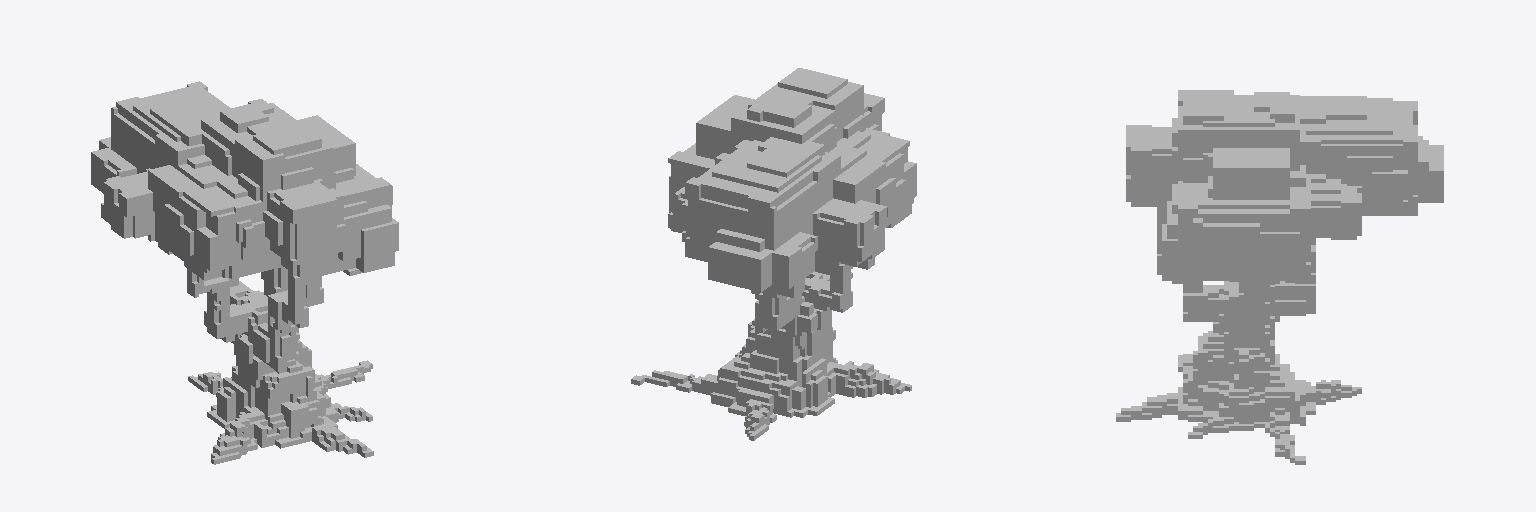
File: Arbre.obj
3 renders of one model, left to right at view 1: azimuth 30°, elevation 25°; view 2: azimuth 150°, elevation 25°; view 3: azimuth 270°, elevation 25°, orthographic.
Visible parts, largest first — view 1: object 1; view 2: object 1; view 3: object 1.
Boxes of the visible parts, box(x1,y1,x2,y2) form: object 1: box(91, 81, 398, 464); object 1: box(631, 68, 916, 440); object 1: box(1116, 90, 1443, 464).
Bounding box in the file's own units: 5.6 × 6.4 × 6.4.